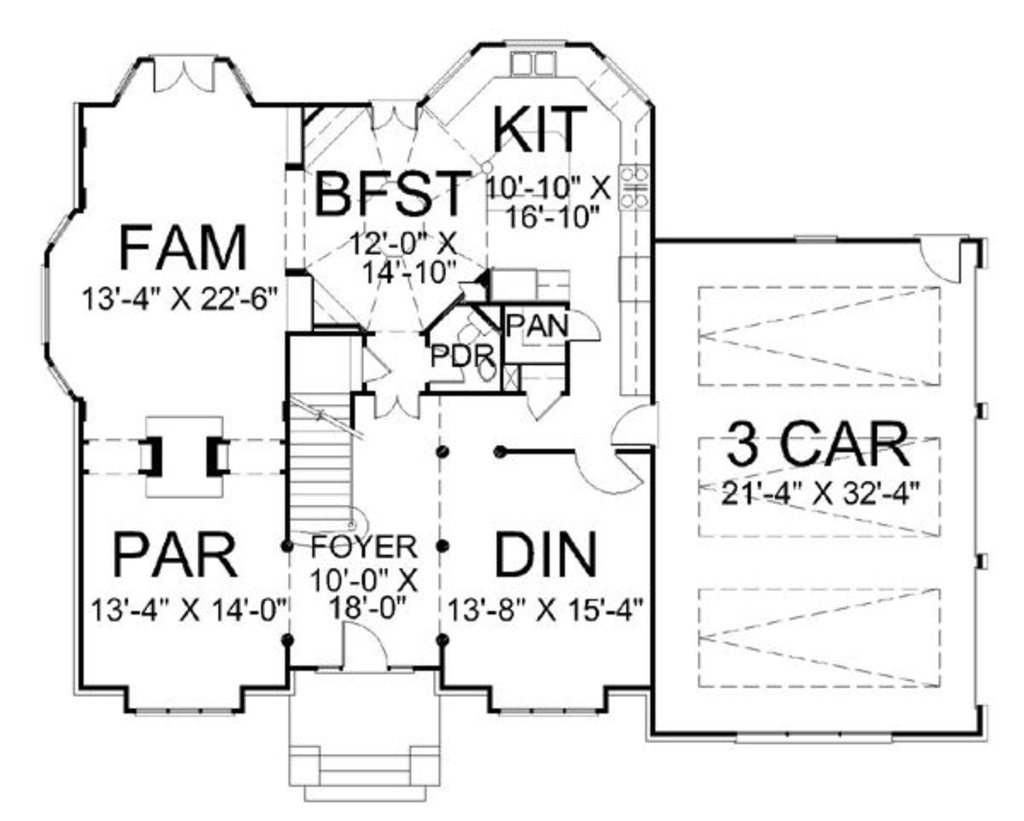door: (571, 447, 652, 504), (145, 57, 219, 95), (337, 618, 389, 671), (917, 234, 969, 287), (367, 98, 427, 137), (612, 402, 658, 447), (369, 387, 426, 421), (564, 310, 606, 343), (362, 344, 396, 384), (523, 394, 559, 426)
stairs: (281, 393, 376, 550)
twin_sink: (510, 47, 560, 79)
window: (734, 730, 905, 748), (131, 706, 235, 720), (493, 709, 606, 721), (40, 260, 53, 347)
